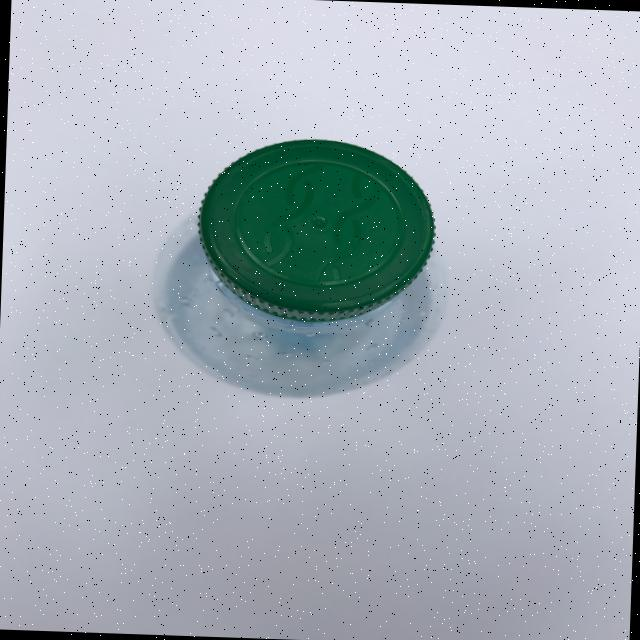plastic: (192, 133, 438, 330)
